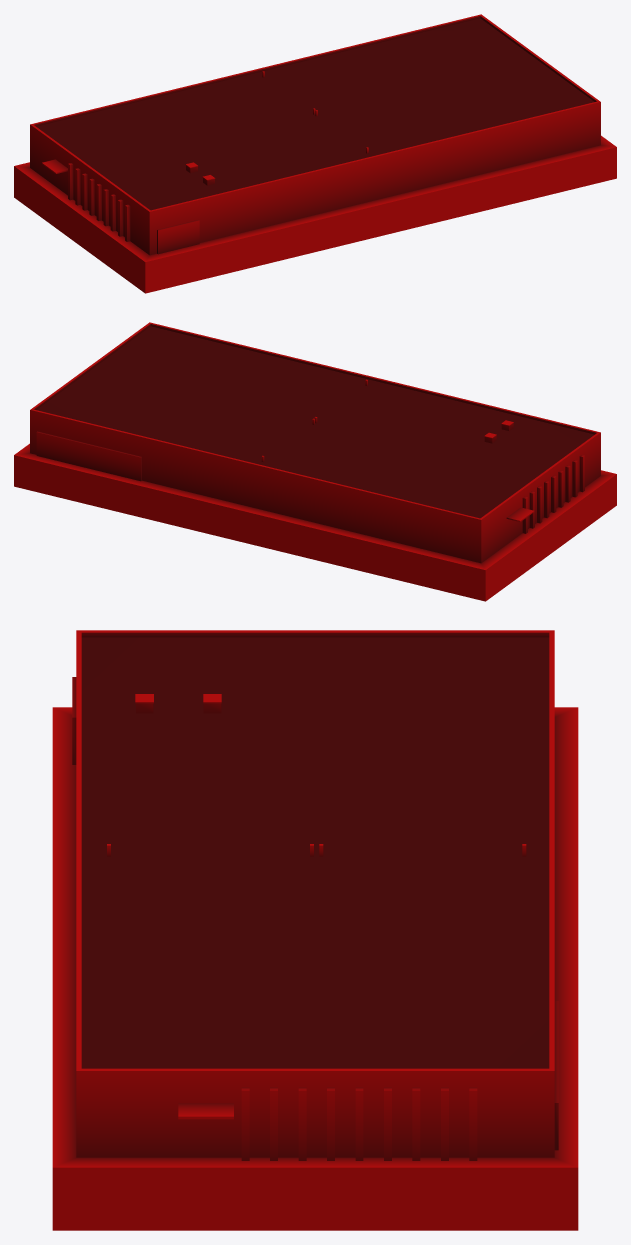
Rendered from buildings-industrial-industrialbuilding_v4.fbx.
The picture shows the model from 3 angles, top to bottom: view 1: azimuth 30°, elevation 25°; view 2: azimuth 150°, elevation 25°; view 3: azimuth 270°, elevation 25°; orthographic projection. The views are drawn at different scales.
Parts seen in each view (by area): view 1: IndustrialBuilding_v4; view 2: IndustrialBuilding_v4; view 3: IndustrialBuilding_v4.
Boxes of the visible parts, x1=… form: IndustrialBuilding_v4: x1=14, y1=14, x2=616, y2=293; IndustrialBuilding_v4: x1=14, y1=322, x2=616, y2=601; IndustrialBuilding_v4: x1=52, y1=630, x2=578, y2=1230.
Bounding box in the file's own units: 49.02 × 7.66 × 23.31.
